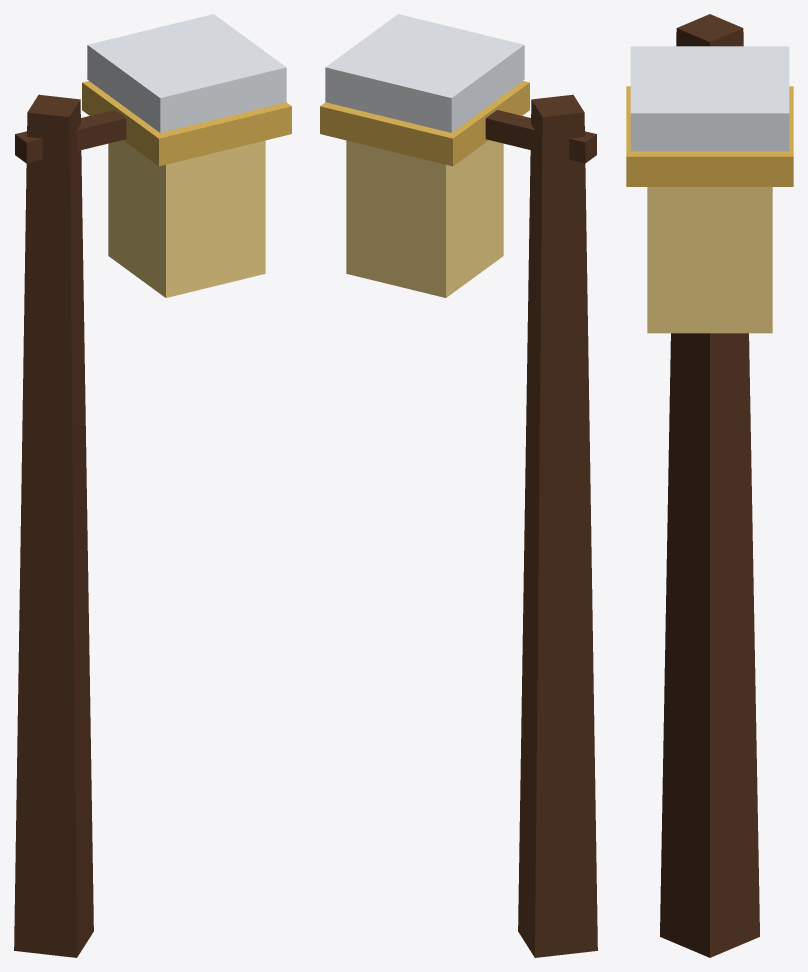
Rendered from prop_lantern.glb.
The picture shows the model from 3 angles, left to right: view 1: azimuth 30°, elevation 25°; view 2: azimuth 150°, elevation 25°; view 3: azimuth 270°, elevation 25°; orthographic projection. The views are drawn at different scales.
Visible parts, largest first — view 1: prop_lantern; view 2: prop_lantern; view 3: prop_lantern.
Boxes of the visible parts, <box> form: prop_lantern: <box>14,14,291,957</box>; prop_lantern: <box>320,14,597,957</box>; prop_lantern: <box>626,14,793,957</box>.
Size of the model in its own units: 0.72 by 2.45 by 0.3999.
1 material, 1 textured.
